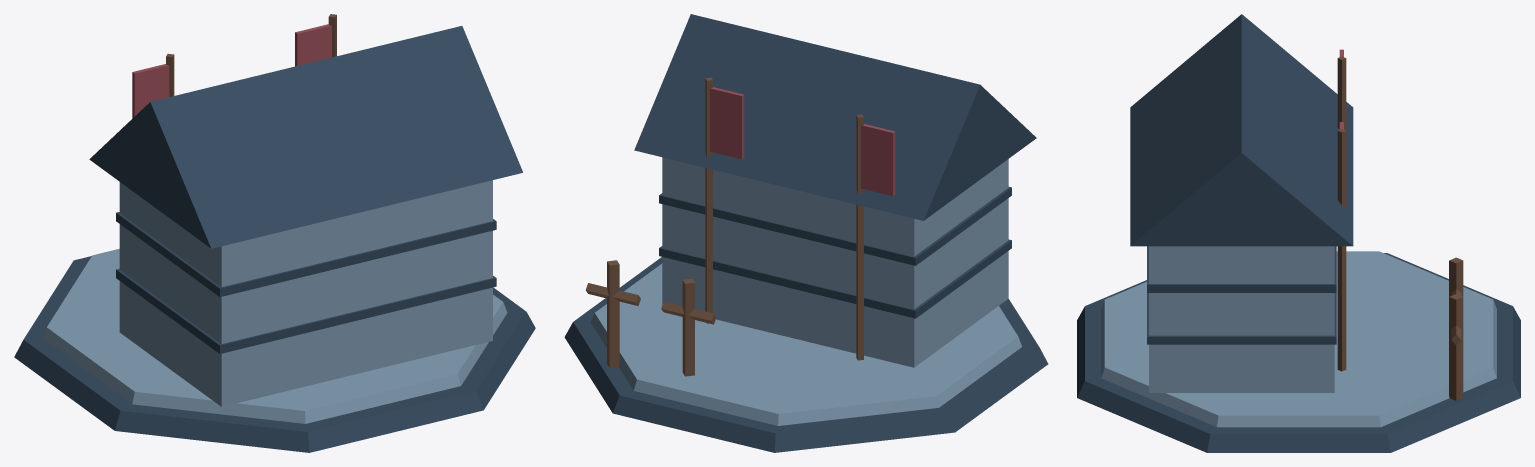
The model's file is Barracks_2.fbx.
3 renders of one model, left to right at view 1: azimuth 30°, elevation 25°; view 2: azimuth 150°, elevation 25°; view 3: azimuth 270°, elevation 25°, orthographic. The views are drawn at different scales.
Visible parts, largest first — view 1: Barracks_2; view 2: Barracks_2; view 3: Barracks_2.
Part boxes in pixels (x1,y1,x2,y2): Barracks_2: [14, 14, 535, 452]; Barracks_2: [564, 14, 1048, 452]; Barracks_2: [1077, 14, 1520, 452].
Bounding box in the file's own units: 2.7 × 1.85 × 2.7.
